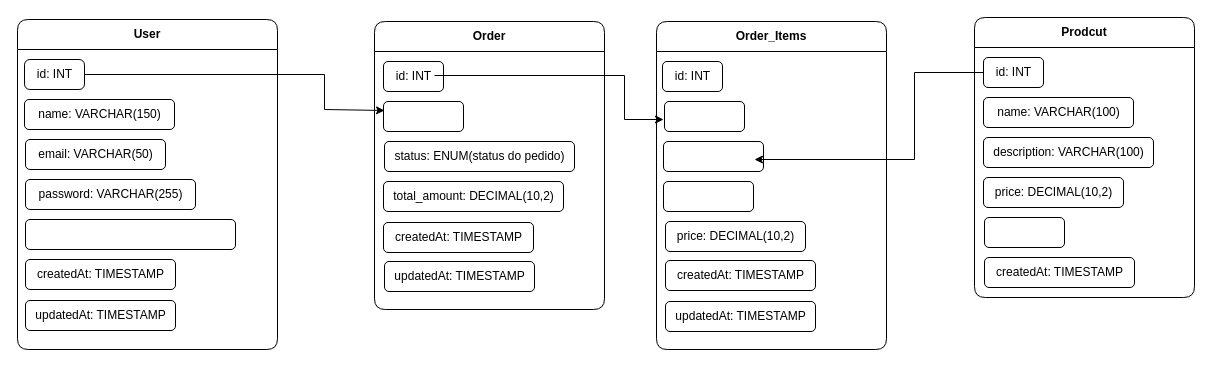
Some shapes in this 1212 by 367 pixel diagram are drawn without their labels. The centre of each missing label's shape, as x and y in pixels:
"orderId: FK" belongs at pixel 704 116.
"productId: FK" belongs at pixel 713 156.
"quantity: INT" belongs at pixel 708 196.
"role: ENUM( STANDARD | ADMIN)" belongs at pixel 130 234.
"stock: INT" belongs at pixel 1024 232.
"userId: FK" belongs at pixel 423 116.
